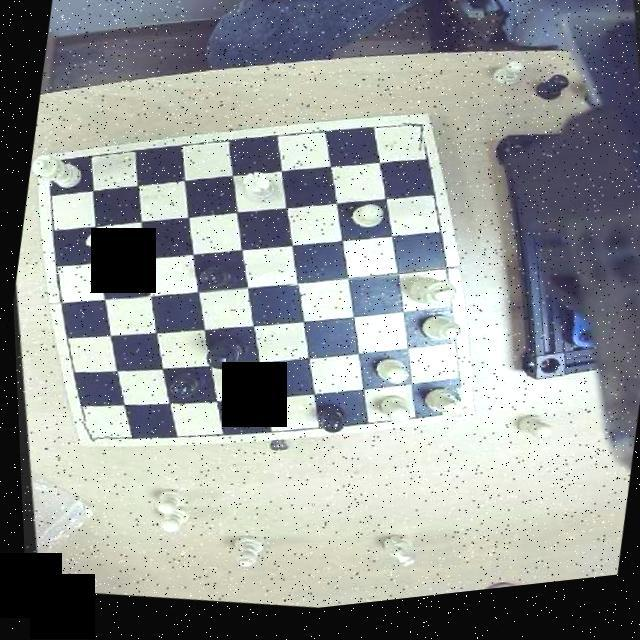chess-table-corners: (388, 121, 433, 167), (430, 391, 473, 436), (32, 152, 72, 191), (70, 415, 108, 450)
